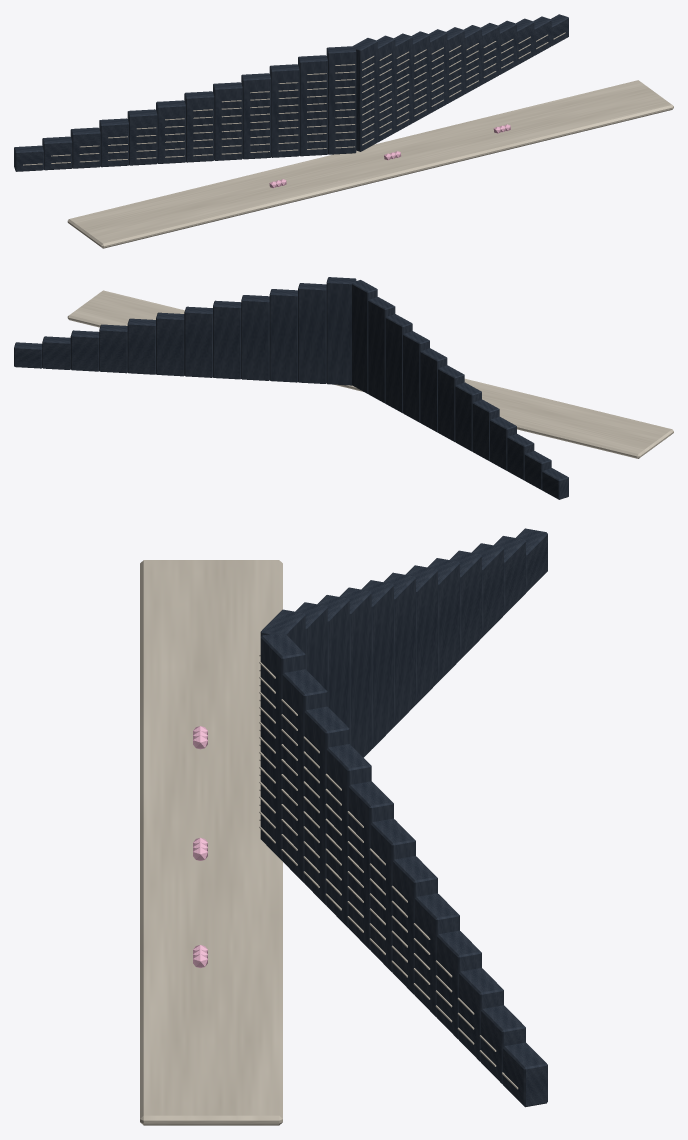
File: vietnam-veterans-memorial.glb
3 views of the same model, one above another, from view 1: azimuth 30°, elevation 25°; view 2: azimuth 150°, elevation 25°; view 3: azimuth 270°, elevation 25° (orthographic). The views are drawn at different scales.
Visible parts, largest first — view 1: vietnam-veterans-memorial; view 2: vietnam-veterans-memorial; view 3: vietnam-veterans-memorial.
Boxes of the visible parts, x1,y1,x2,y2 form: vietnam-veterans-memorial: [14, 14, 673, 248]; vietnam-veterans-memorial: [14, 277, 673, 499]; vietnam-veterans-memorial: [140, 528, 547, 1125].
Bounding box in the file's own units: 12 × 2.15 × 3.71.
1 material, 1 textured.
